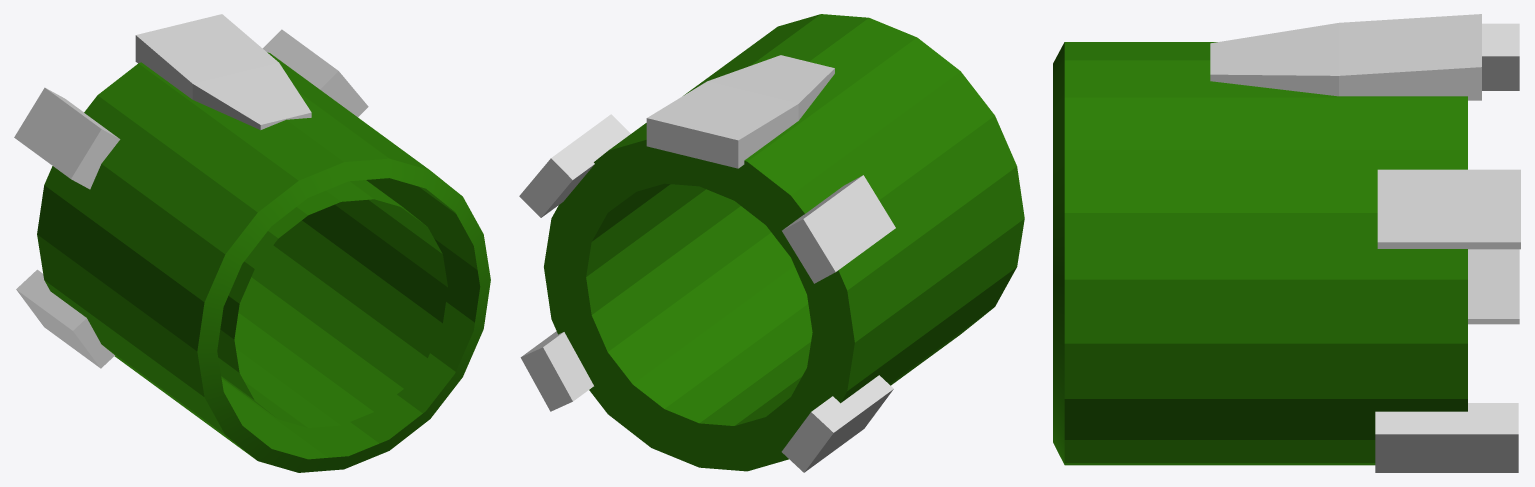
The model's file is MC_SF_Tuyau.fbx.
3 renders of one model, left to right at view 1: azimuth 30°, elevation 25°; view 2: azimuth 150°, elevation 25°; view 3: azimuth 270°, elevation 25°, orthographic. The views are drawn at different scales.
Visible parts, largest first — view 1: MC_SF_Tuyau; view 2: MC_SF_Tuyau; view 3: MC_SF_Tuyau.
Boxes of the visible parts, x1=… form: MC_SF_Tuyau: x1=14, y1=14, x2=490, y2=472; MC_SF_Tuyau: x1=519, y1=14, x2=1024, y2=472; MC_SF_Tuyau: x1=1053, y1=14, x2=1520, y2=472.
Bounding box in the file's own units: 4.51 × 4.67 × 4.87.
